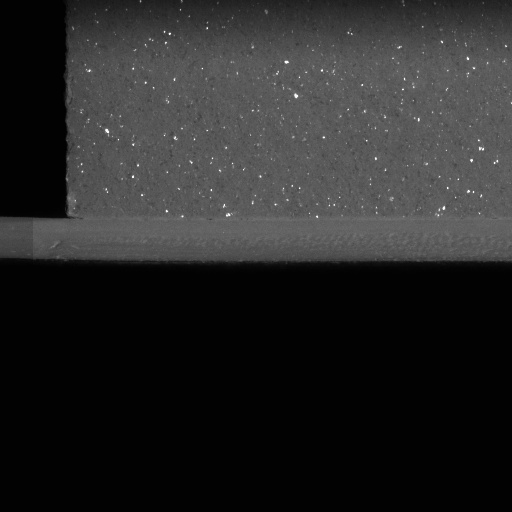changdai: (0, 212, 69, 263)
